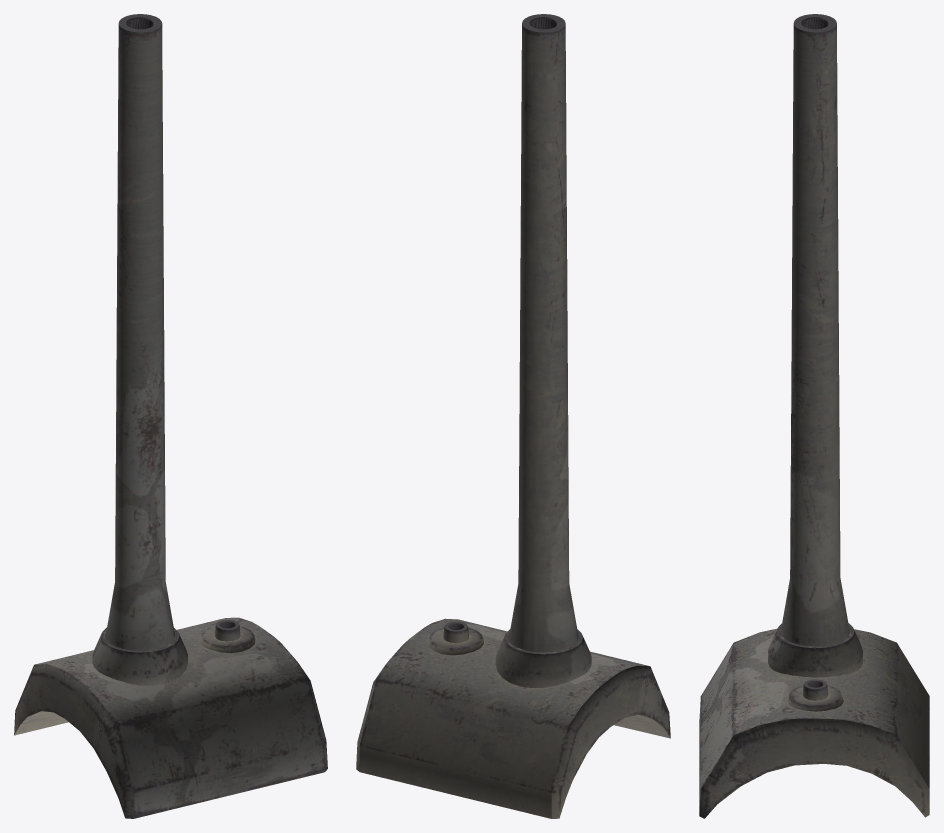
File: Gun_02.glb
3 views of the same model, side by side, from view 1: azimuth 30°, elevation 25°; view 2: azimuth 150°, elevation 25°; view 3: azimuth 270°, elevation 25° (orthographic).
Parts seen in each view (by area): view 1: set_0_group_0; view 2: set_0_group_0; view 3: set_0_group_0.
Part boxes in pixels (<box>): set_0_group_0: <box>14,14,327,818</box>; set_0_group_0: <box>356,14,670,818</box>; set_0_group_0: <box>699,14,929,818</box>.
Bounding box in the file's own units: 1.13 × 3.91 × 1.12.
Materials: 1 (1 with a texture image).
